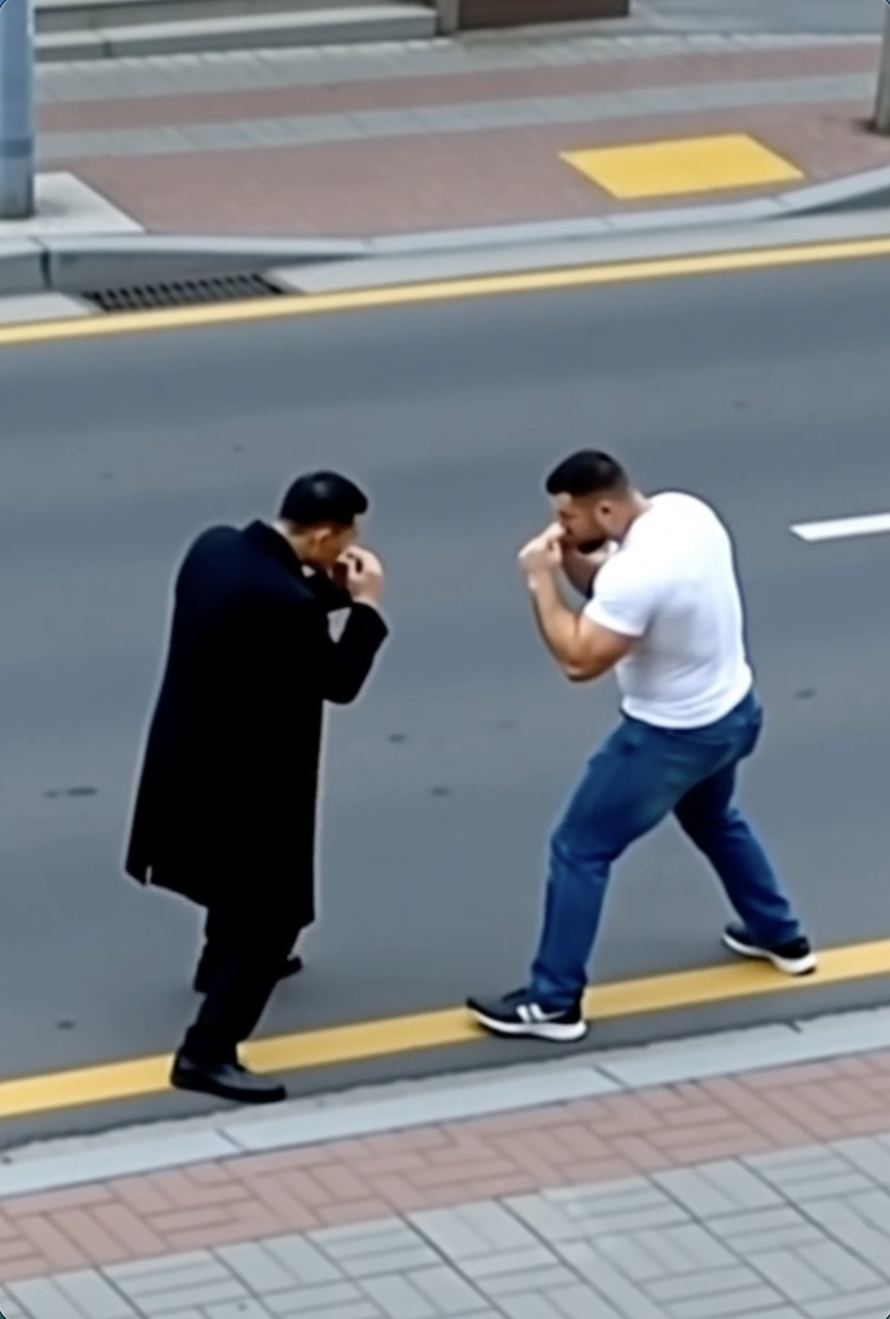Assault: (121, 470, 389, 1107)
Fighting: (464, 449, 819, 1042)
